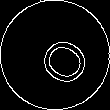O_NW: (22, 23, 88, 87)
